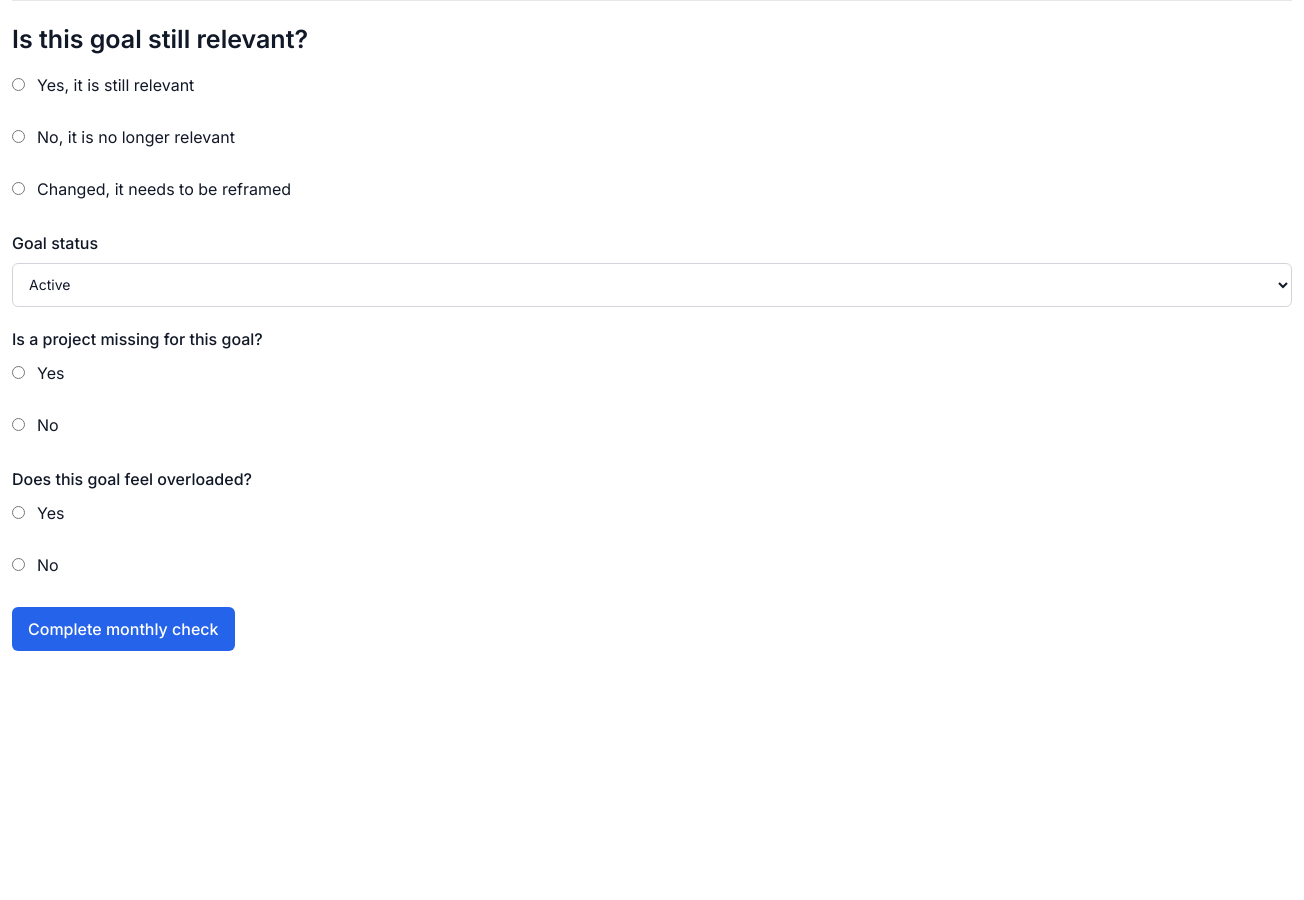
Test: MonthlyGoalCheckClient › requires a transient relevance answer before completion
Click the button "Complete monthly check".
click(123, 628)  # box [12,606,234,650]
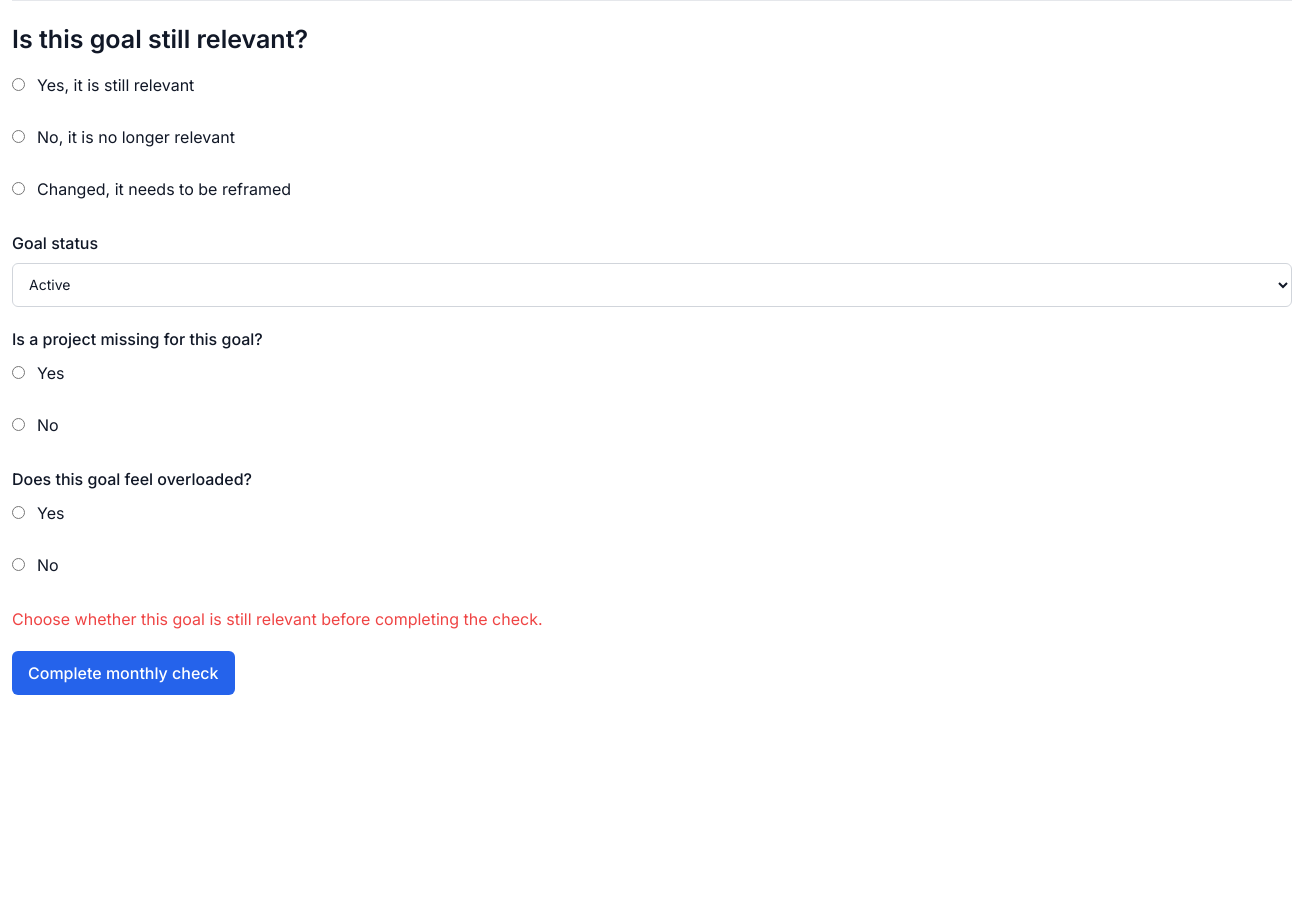
Now the message reads "Choose whether this goal is still relevant before completing the check.", box [12,608,542,628]
